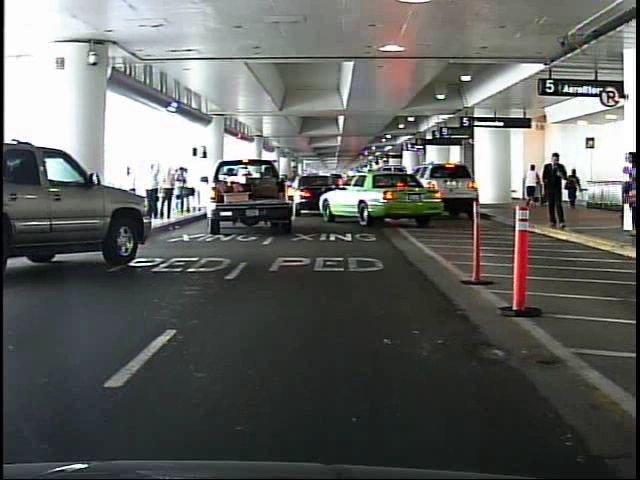person: (541, 146, 572, 234), (566, 168, 584, 212), (525, 162, 541, 208)
